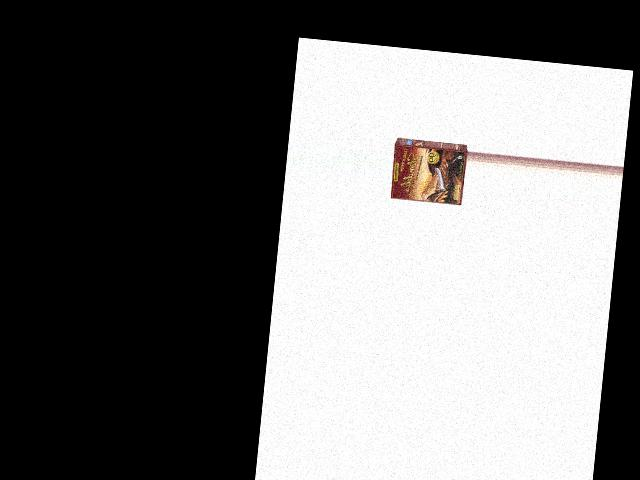chocolate: (387, 133, 469, 212)
